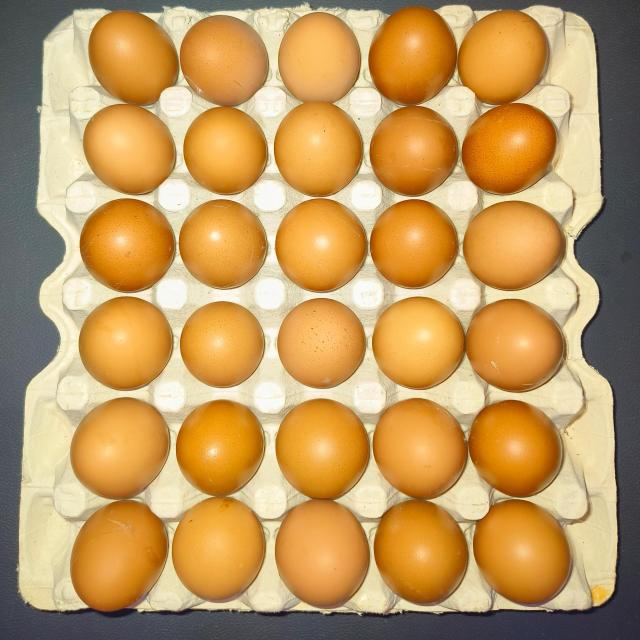Eggs: (67, 502, 170, 610), (272, 501, 371, 609), (373, 497, 468, 609), (474, 501, 578, 602), (71, 295, 176, 395), (67, 399, 173, 498), (69, 198, 179, 293), (272, 398, 370, 499), (464, 198, 568, 293), (175, 501, 266, 608), (467, 396, 563, 496), (372, 394, 468, 494), (471, 297, 565, 393), (279, 102, 369, 202), (88, 9, 180, 104), (462, 6, 552, 103), (462, 105, 560, 194), (79, 106, 180, 192), (181, 295, 265, 398), (174, 402, 267, 495), (370, 104, 460, 200), (368, 297, 466, 385), (370, 8, 460, 103), (274, 204, 368, 294), (181, 200, 272, 292), (273, 302, 365, 390), (188, 11, 268, 108), (374, 206, 464, 290), (184, 107, 276, 189), (278, 14, 360, 101)
